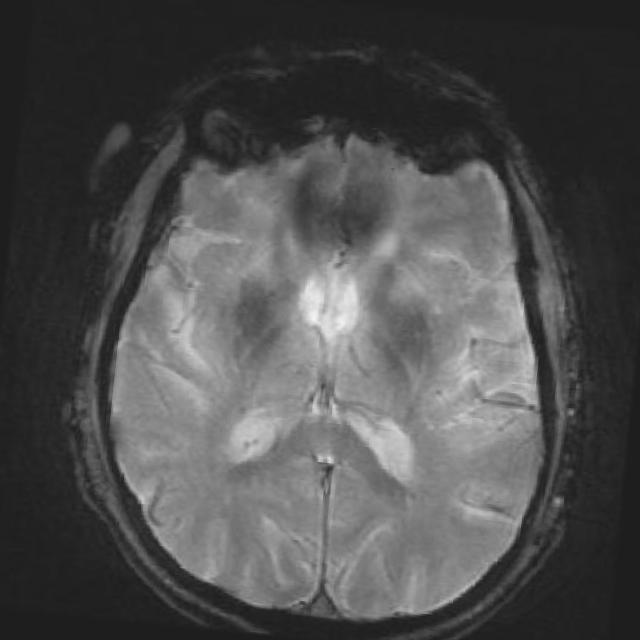MCI: (282, 146, 403, 257), (382, 282, 467, 428), (214, 272, 282, 358)
